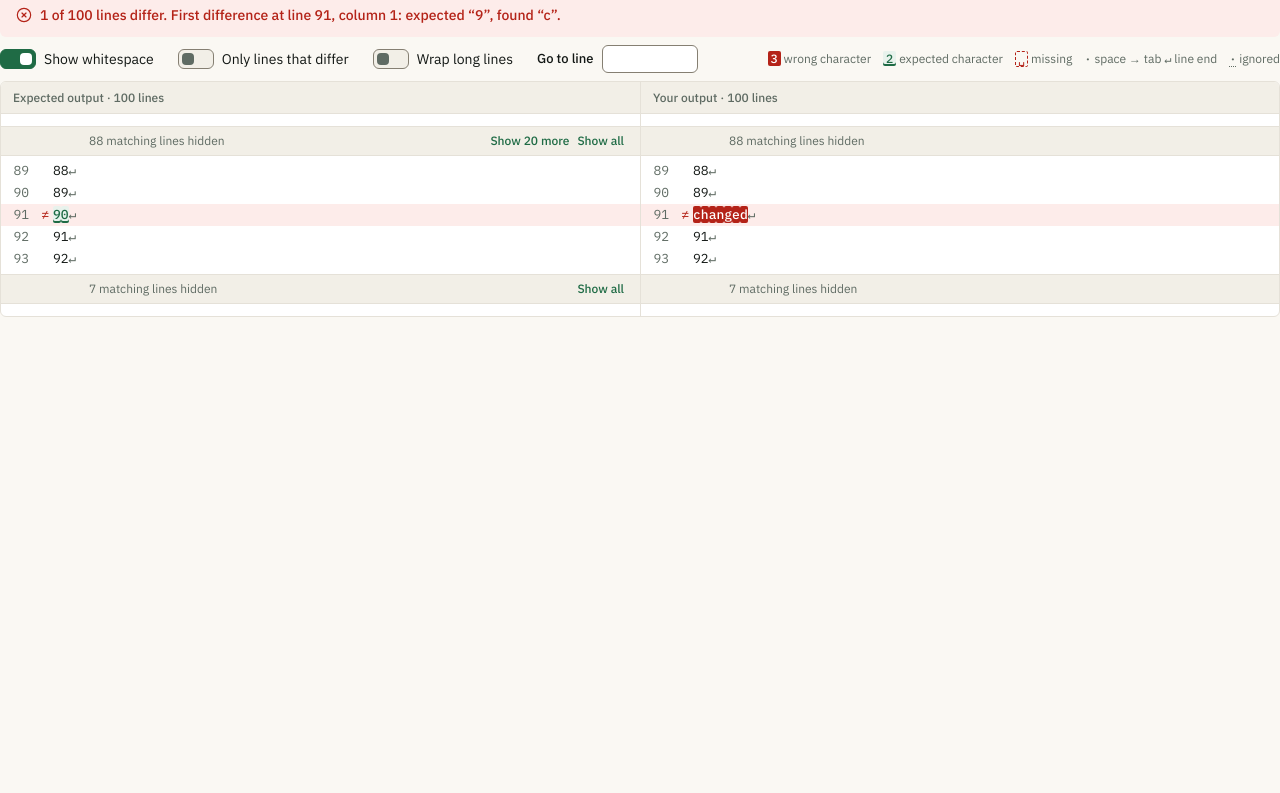
Test: DiffView on the review pages › goes to a line inside a fold by opening it
The width and height of the screenshot is (1280, 793).
In the field labelled "Go to line": coordinates (650, 59) 602,45 -> 698,73, type "30"
Then press Enter
(page scrolled)
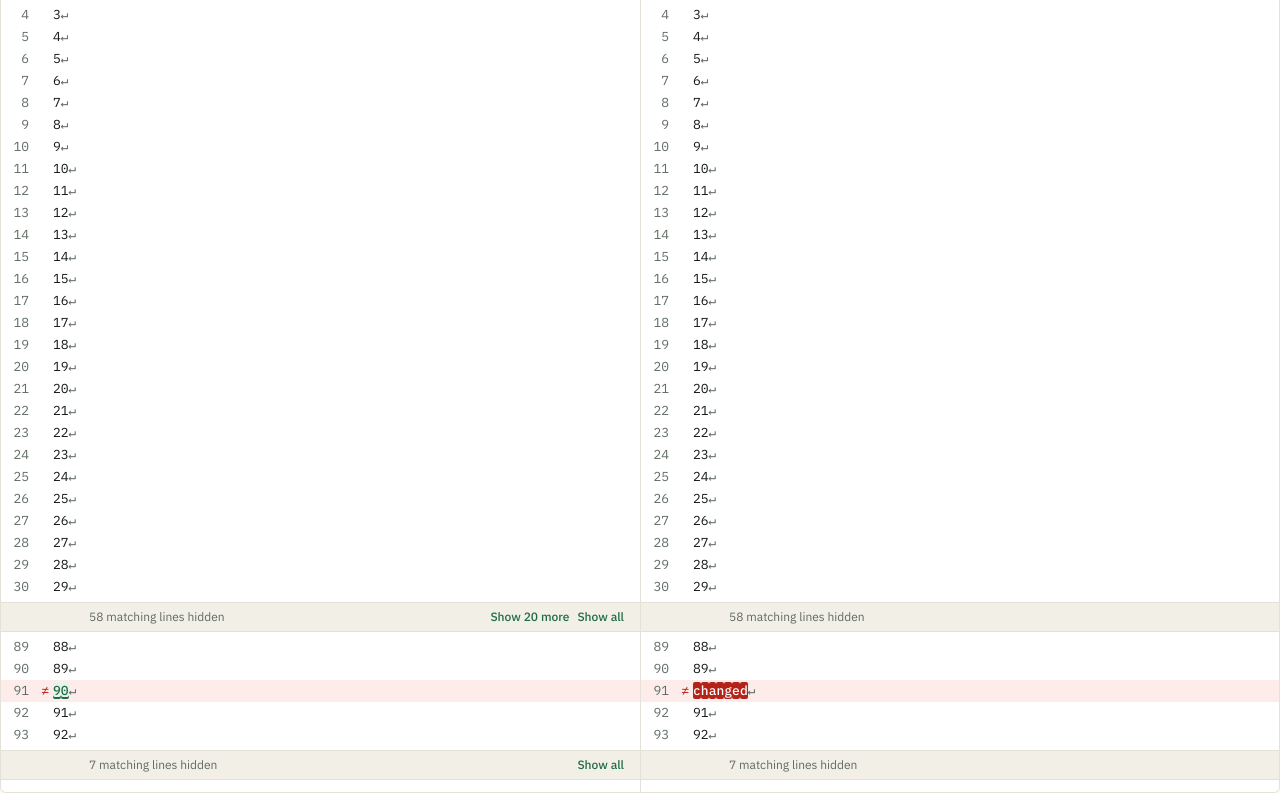
Result: the 1st list item "30 29↵" is shown at 13,578 -> 76,595
